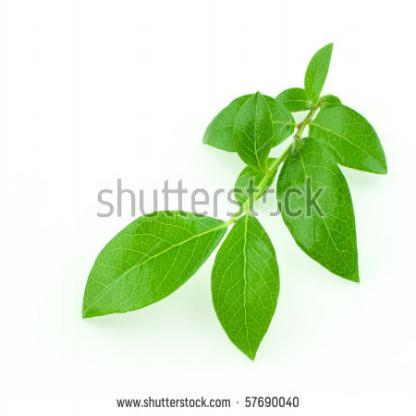Blueberry leaf: (77, 198, 234, 340), (269, 134, 365, 291), (211, 205, 283, 366), (302, 106, 396, 186), (228, 84, 275, 186)
